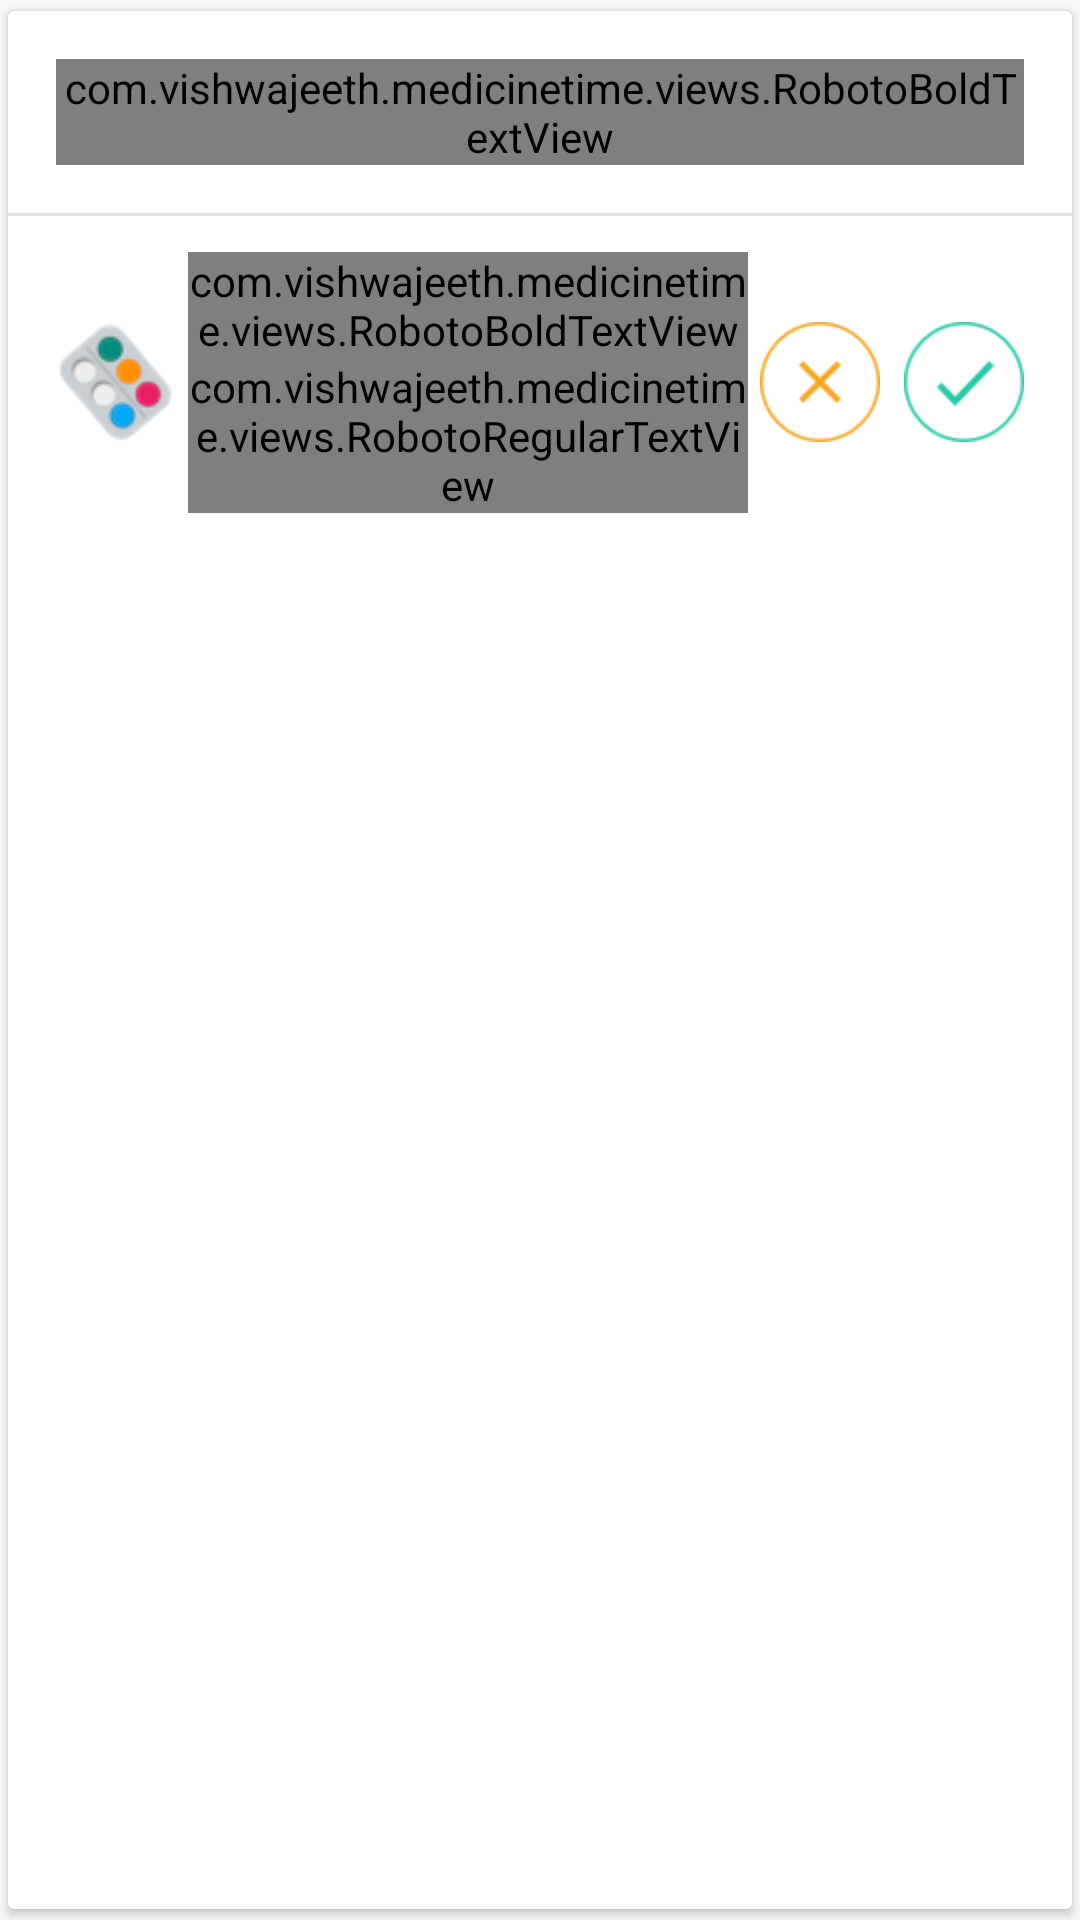

Icons on this 1080w x 1920h Android screen, each with its box as (x1,y1,x2,y2):
blister: (60,326,171,439)
